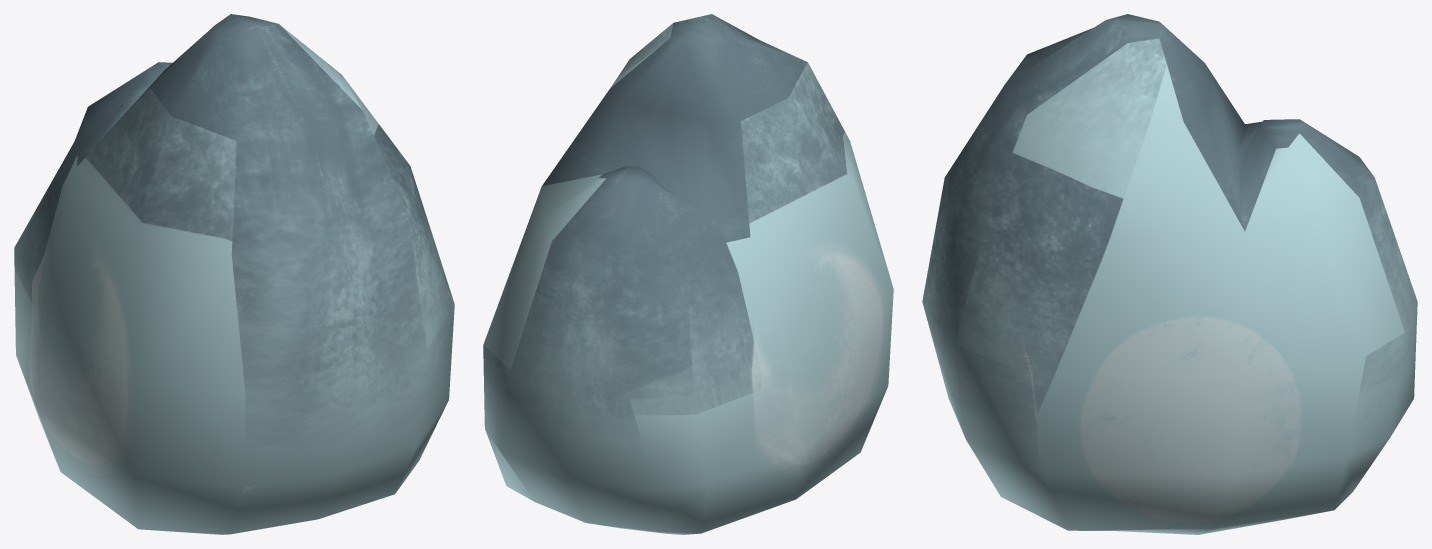
The model's file is calories.fbx.
3 views of the same model, side by side, from view 1: azimuth 30°, elevation 25°; view 2: azimuth 150°, elevation 25°; view 3: azimuth 270°, elevation 25° (orthographic). The views are drawn at different scales.
Visible parts, largest first — view 1: fire; view 2: fire; view 3: fire.
Boxes of the visible parts, x1,y1,x2,y2 form: fire: (14,14,454,534); fire: (483,14,893,534); fire: (922,14,1417,534).
Bounding box in the file's own units: 197 × 287 × 272.
